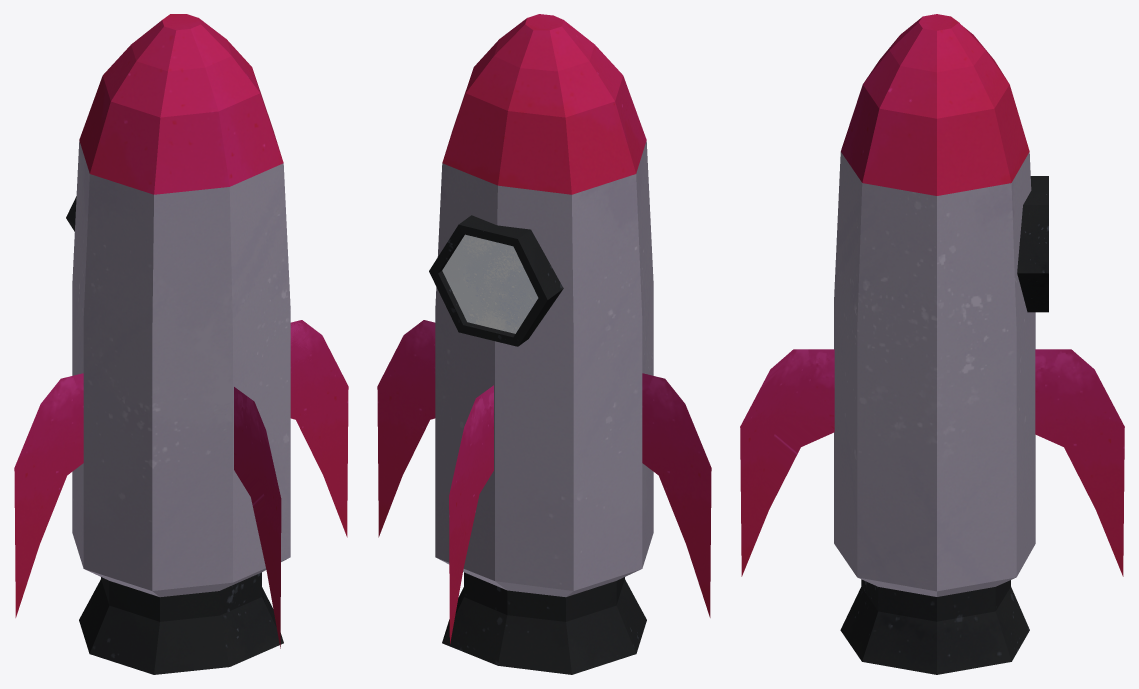
The model's file is SM_rocketShip.fbx.
3 renders of one model, left to right at view 1: azimuth 30°, elevation 25°; view 2: azimuth 150°, elevation 25°; view 3: azimuth 270°, elevation 25°, orthographic.
Parts seen in each view (by area): view 1: rocketShip; view 2: rocketShip; view 3: rocketShip.
Boxes of the visible parts, x1,y1,x2,y2 form: rocketShip: (14,14,348,674); rocketShip: (377,14,711,674); rocketShip: (740,14,1124,674).
Size of the model in its own units: 40.68 by 70.92 by 40.68.
